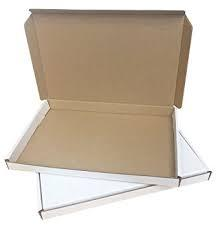Cardboard: (0, 9, 220, 229)
